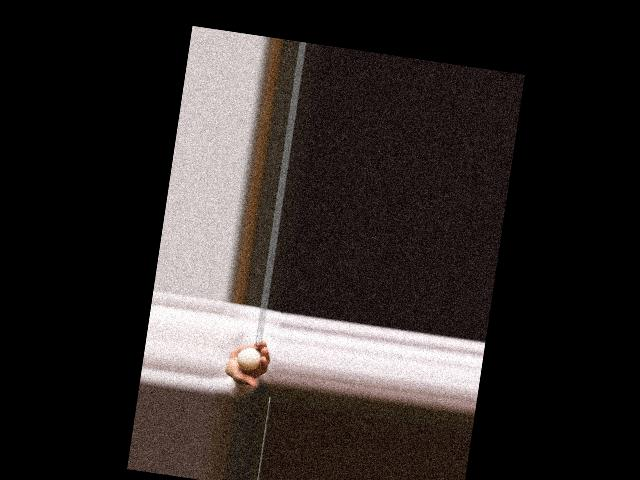egg: (236, 346, 263, 372)
